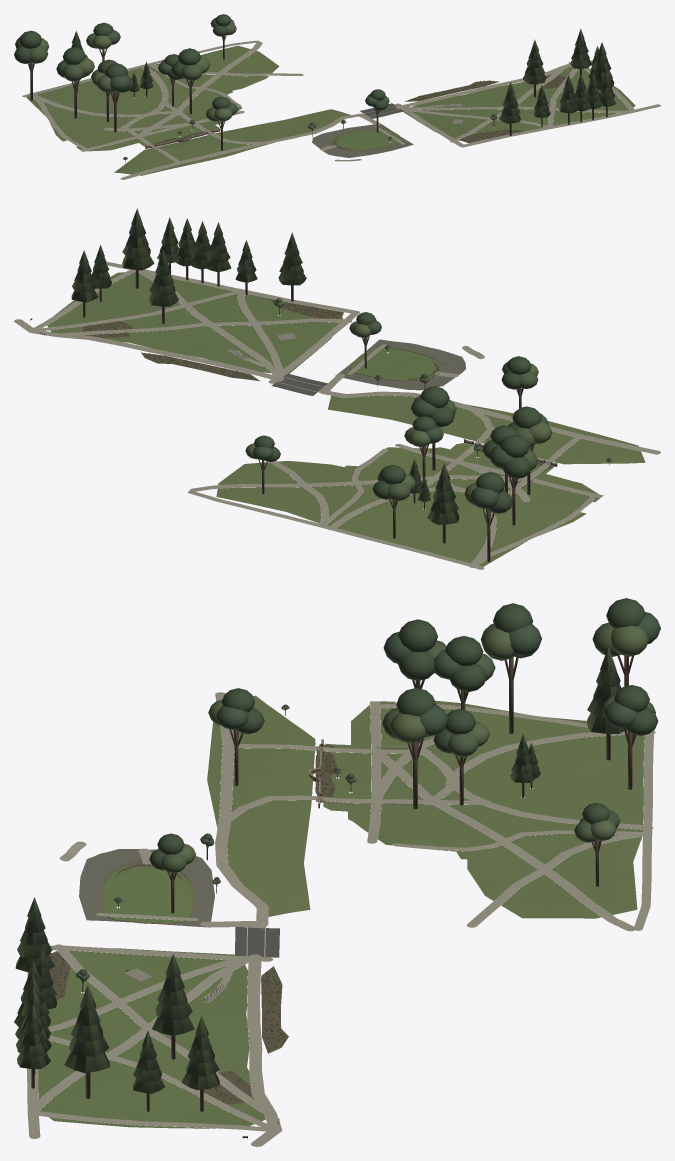
The model's file is site.glb.
3 views of the same model, one above another, from view 1: azimuth 30°, elevation 25°; view 2: azimuth 150°, elevation 25°; view 3: azimuth 270°, elevation 25° (orthographic). The views are drawn at different scales.
Visible parts, largest first — view 1: central-campus-greens-surface, central-campus-greens-planting, central-campus-greens-detail; view 2: central-campus-greens-surface, central-campus-greens-planting; view 3: central-campus-greens-surface, central-campus-greens-planting.
Boxes of the visible parts, <box> form: central-campus-greens-surface: <box>22,40,660,179</box>; central-campus-greens-planting: <box>14,14,616,162</box>; central-campus-greens-detail: <box>126,62,570,150</box>; central-campus-greens-surface: <box>14,261,660,569</box>; central-campus-greens-planting: <box>71,208,612,561</box>; central-campus-greens-surface: <box>27,692,655,1146</box>; central-campus-greens-planting: <box>14,598,660,1111</box>.
Size of the model in its own units: 252 by 35.86 by 157.
